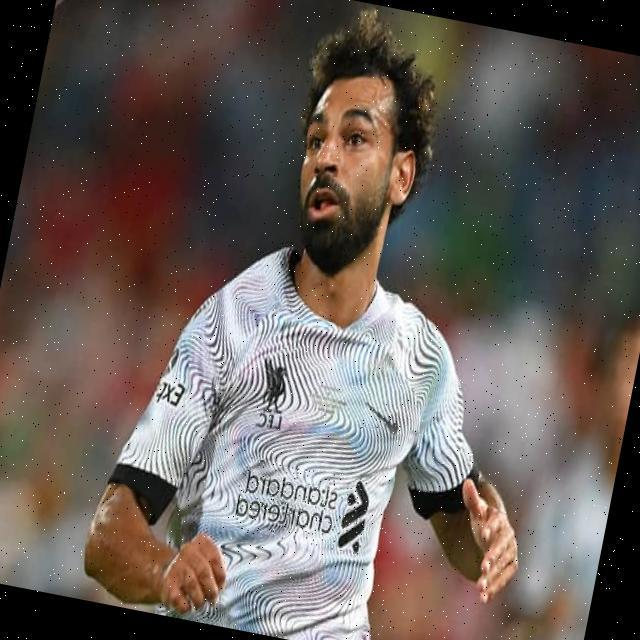Nike: (360, 400, 404, 437)
Standard Chartered: (230, 455, 374, 556)
